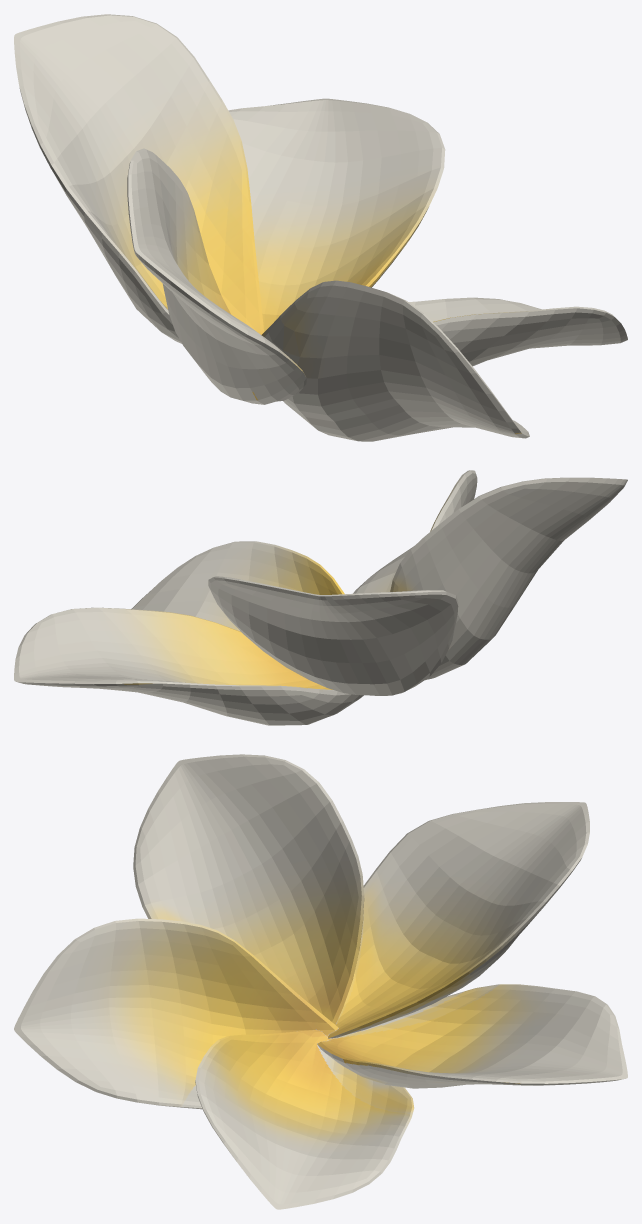
The model's file is FLO 1 up.fbx.
3 renders of one model, top to bottom at view 1: azimuth 30°, elevation 25°; view 2: azimuth 150°, elevation 25°; view 3: azimuth 270°, elevation 25°, orthographic. The views are drawn at different scales.
Parts seen in each view (by area): view 1: Plane.004; view 2: Plane.004; view 3: Plane.004.
Part boxes in pixels (<box>): Plane.004: <box>14,14,627,441</box>; Plane.004: <box>14,470,627,725</box>; Plane.004: <box>14,754,627,1209</box>.
Size of the model in its own units: 62.75 by 72.29 by 34.23.
1 material, 1 textured.
